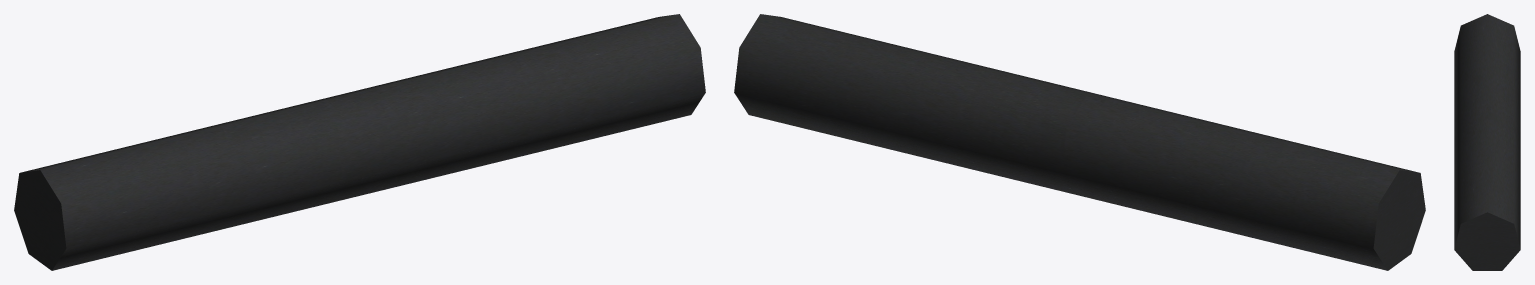
Rendered from Ejector_Spring.dae.
3 renders of one model, left to right at view 1: azimuth 30°, elevation 25°; view 2: azimuth 150°, elevation 25°; view 3: azimuth 270°, elevation 25°, orthographic. The views are drawn at different scales.
Visible parts, largest first — view 1: Ejector_Spring; view 2: Ejector_Spring; view 3: Ejector_Spring.
Boxes of the visible parts, <box> form: Ejector_Spring: <box>14,14,705,270</box>; Ejector_Spring: <box>734,14,1425,270</box>; Ejector_Spring: <box>1454,14,1520,270</box>.
Size of the model in its own units: 0.0172 by 0.00244 by 0.00238.
Materials: 1 (1 with a texture image).
